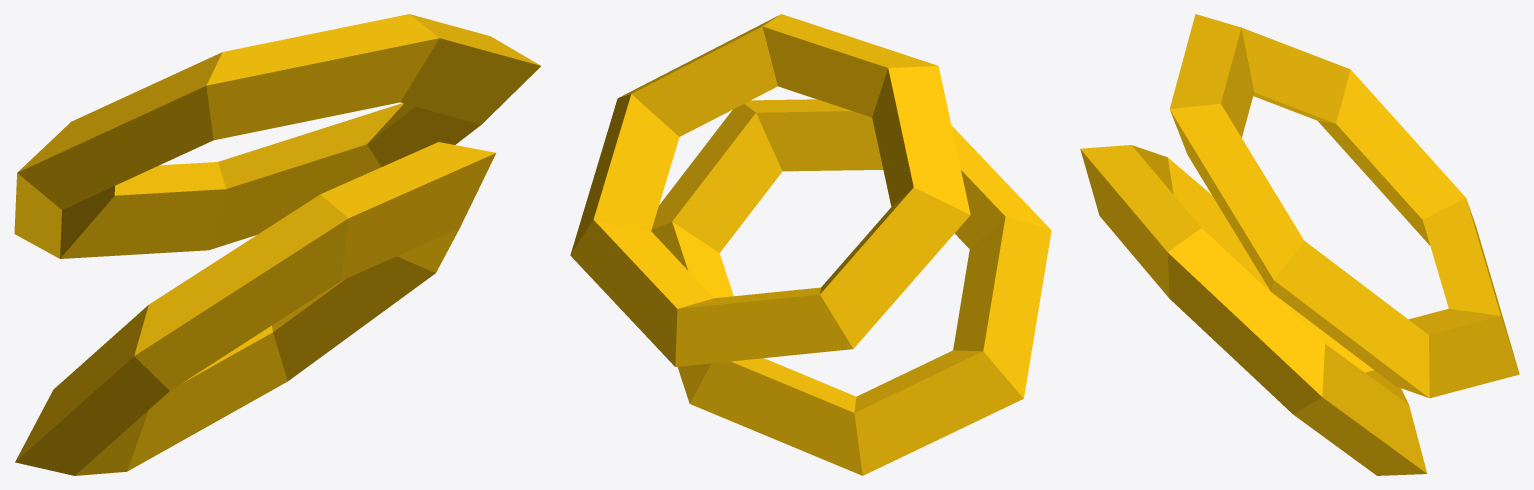
The model's file is earings_gold.gltf.
3 renders of one model, left to right at view 1: azimuth 30°, elevation 25°; view 2: azimuth 150°, elevation 25°; view 3: azimuth 270°, elevation 25°, orthographic. The views are drawn at different scales.
Parts seen in each view (by area): view 1: Earings_Gold; view 2: Earings_Gold; view 3: Earings_Gold.
Part boxes in pixels (x1=…): Earings_Gold: x1=14, y1=14, x2=540, y2=475; Earings_Gold: x1=570, y1=14, x2=1051, y2=475; Earings_Gold: x1=1080, y1=14, x2=1519, y2=475.
Size of the model in its own units: 0.0357 by 0.0298 by 0.0278.
Materials: 1 (1 with a texture image).
